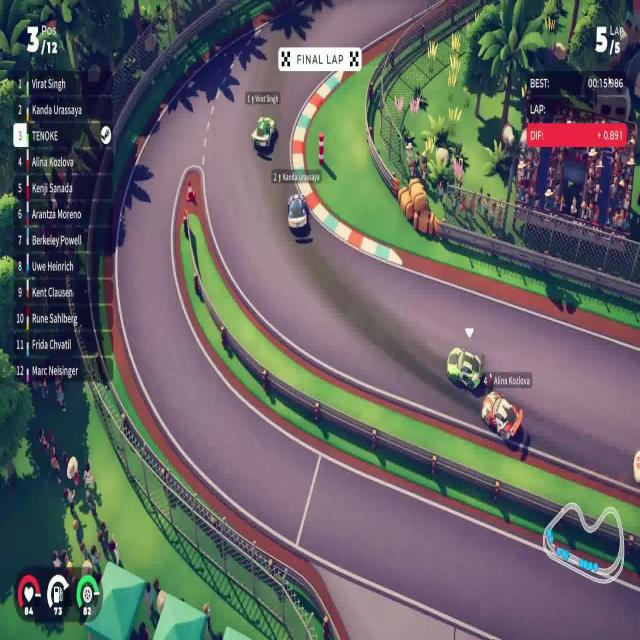car: (481, 390, 523, 442), (446, 346, 486, 392), (250, 115, 276, 153), (286, 192, 308, 235)
